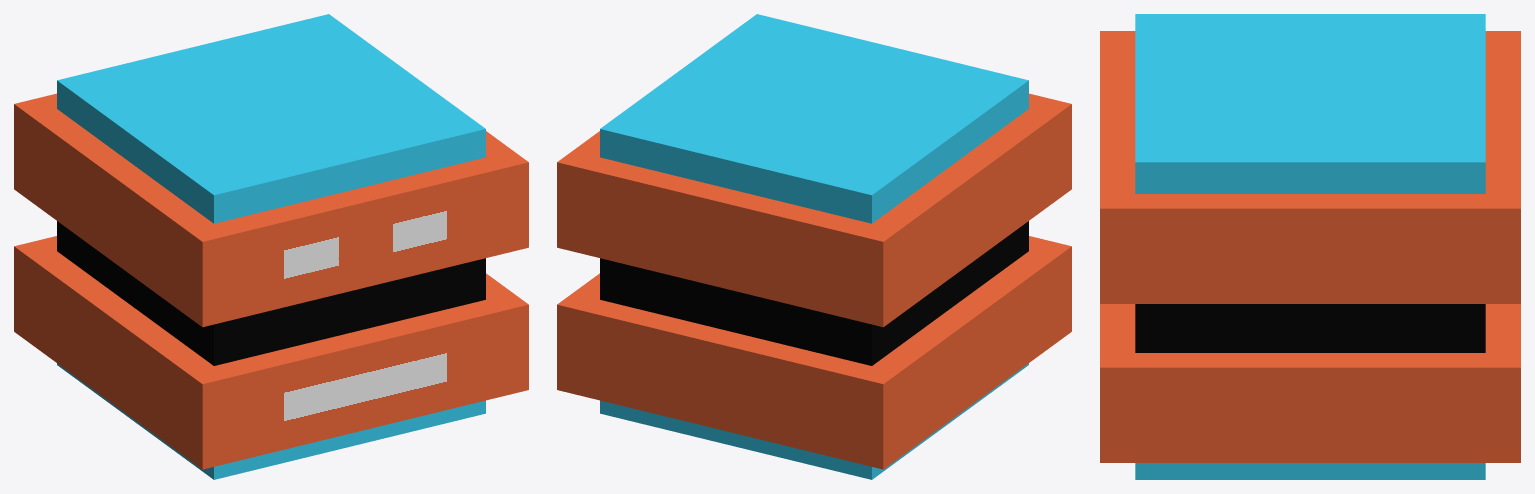
File: Zack.fbx
3 renders of one model, left to right at view 1: azimuth 30°, elevation 25°; view 2: azimuth 150°, elevation 25°; view 3: azimuth 270°, elevation 25°, orthographic. The views are drawn at different scales.
Visible parts, largest first — view 1: Zack; view 2: Zack; view 3: Zack.
Boxes of the visible parts, <box> form: Zack: <box>14,14,528,479</box>; Zack: <box>557,14,1071,479</box>; Zack: <box>1100,14,1520,479</box>.
Bounding box in the file's own units: 12 × 10 × 12.
1 material, 1 textured.
